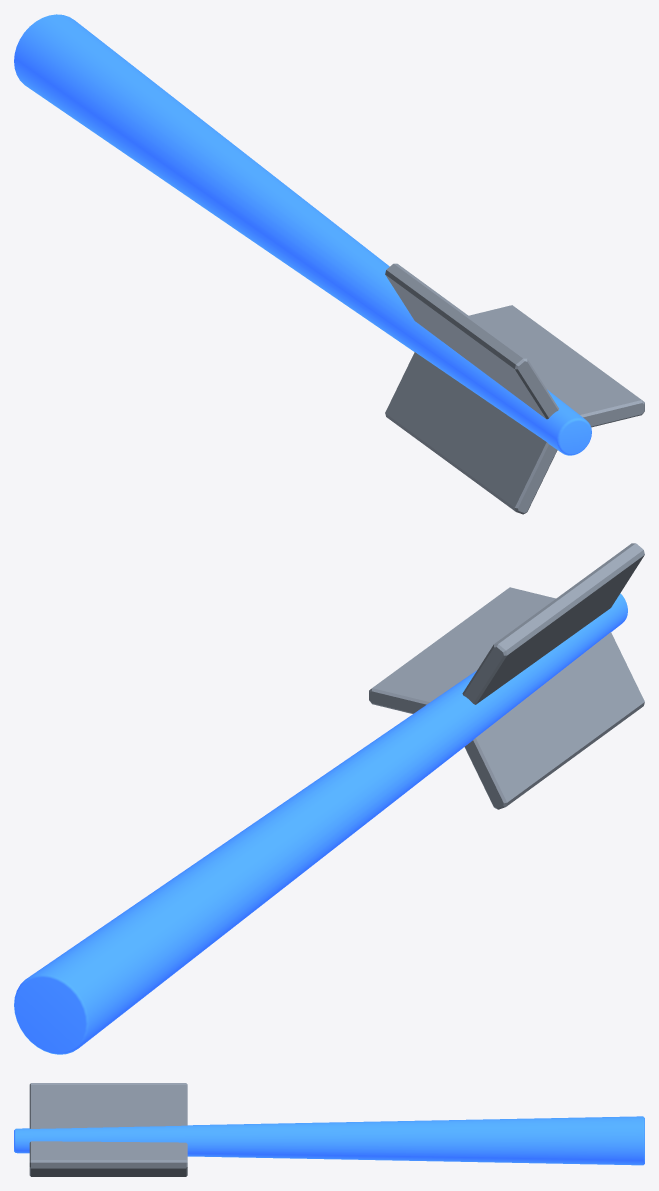
File: proj_lance_bolt_t2.glb
The picture shows the model from 3 angles, top to bottom: view 1: azimuth 30°, elevation 25°; view 2: azimuth 150°, elevation 25°; view 3: azimuth 270°, elevation 25°; orthographic projection. The views are drawn at different scales.
Parts seen in each view (by area): view 1: proj_lance_bolt_t2_core, proj_lance_bolt_t2_fin2, proj_lance_bolt_t2_fin0, proj_lance_bolt_t2_fin1; view 2: proj_lance_bolt_t2_core, proj_lance_bolt_t2_fin2, proj_lance_bolt_t2_fin0, proj_lance_bolt_t2_fin1; view 3: proj_lance_bolt_t2_core, proj_lance_bolt_t2_fin1, proj_lance_bolt_t2_fin0, proj_lance_bolt_t2_fin2.
Part boxes in pixels (x1,y1,x2,y2): proj_lance_bolt_t2_core: (14, 14, 591, 455); proj_lance_bolt_t2_fin2: (385, 352, 557, 514); proj_lance_bolt_t2_fin0: (469, 305, 644, 427); proj_lance_bolt_t2_fin1: (385, 263, 558, 419); proj_lance_bolt_t2_core: (14, 593, 627, 1054); proj_lance_bolt_t2_fin2: (464, 632, 644, 809); proj_lance_bolt_t2_fin0: (369, 587, 555, 713); proj_lance_bolt_t2_fin1: (462, 543, 644, 704); proj_lance_bolt_t2_core: (14, 1116, 644, 1165); proj_lance_bolt_t2_fin1: (29, 1083, 187, 1128); proj_lance_bolt_t2_fin0: (29, 1141, 187, 1168); proj_lance_bolt_t2_fin2: (29, 1168, 187, 1176).
Size of what is drawn, in the model's own units: 0.1283 by 0.1468 by 0.9.
